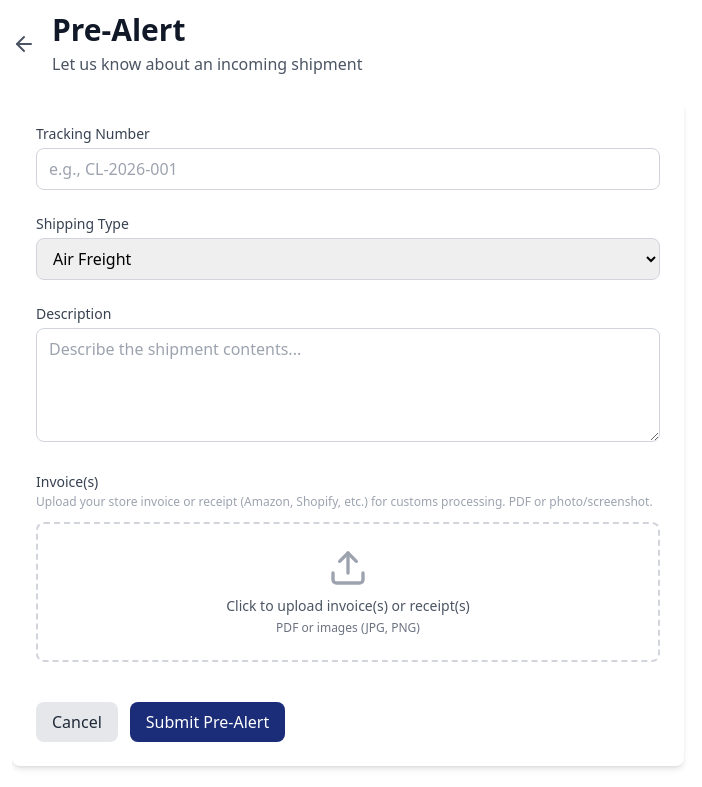
Test case: CreateShipment — submit feedback › shows a success state on the button and a success toast after submitting
This screenshot has width=702, height=787.
Expected: the button "Submit Pre-Alert" is enabled, top-left (130, 702), bottom-right (285, 742)
Type "CL-2026-777" into the field with placeholder "e.g., CL-2026-001" at (348, 169), box top-left (36, 148), bottom-right (660, 190)
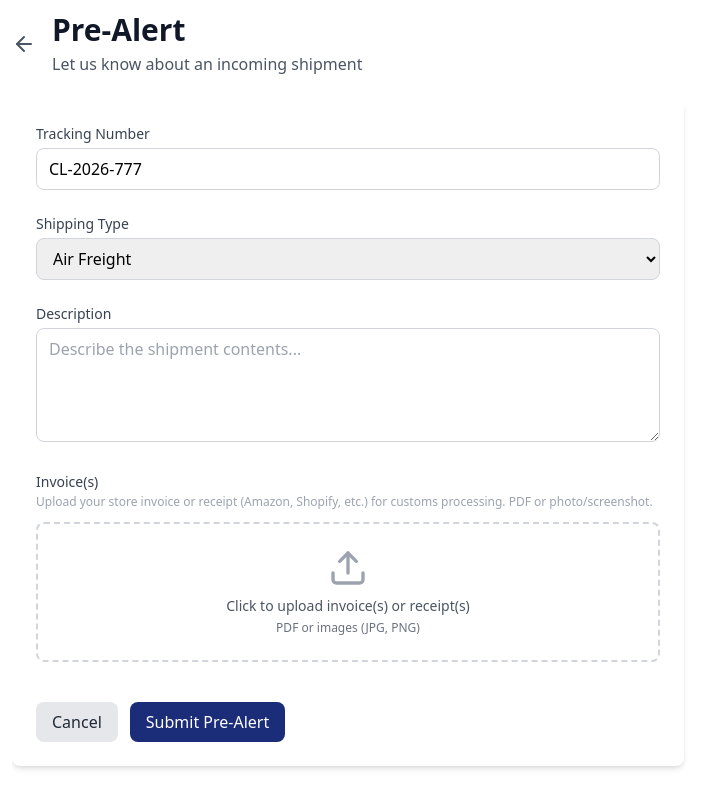
Type "A box of electronics" into the text box with placeholder "Describe the shipment contents..." at (348, 385), box top-left (36, 328), bottom-right (660, 442)
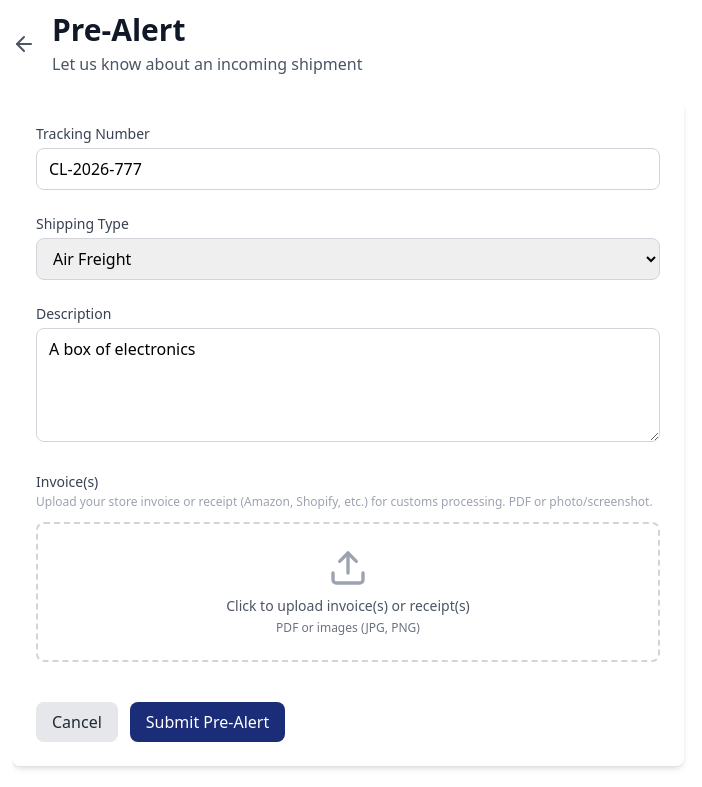
Click the button "Submit Pre-Alert" at (208, 722), box top-left (130, 702), bottom-right (285, 742)
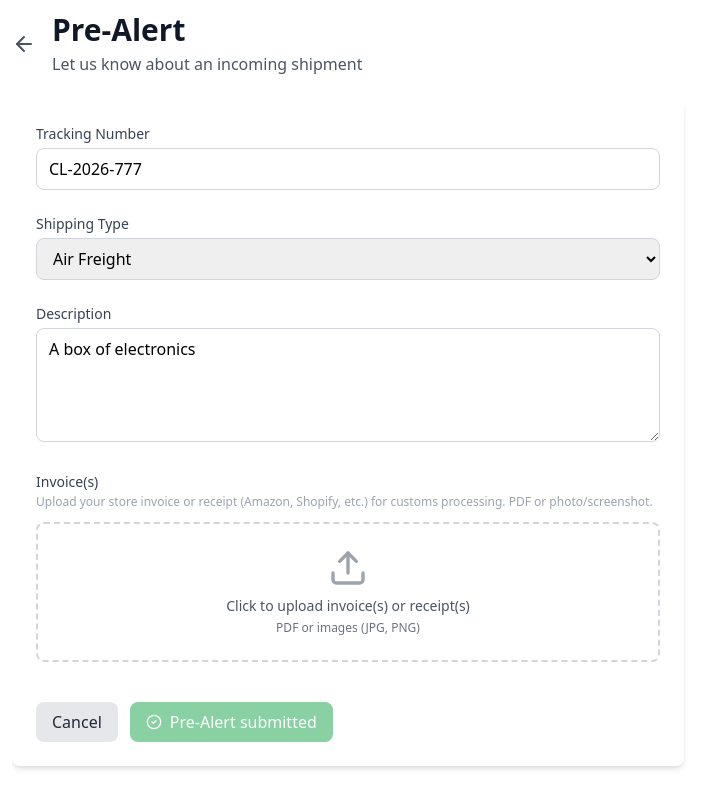
Now the button "Pre-Alert submitted" is disabled, box top-left (130, 702), bottom-right (333, 742)
